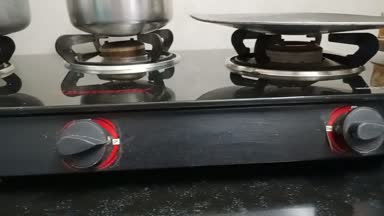flame_gas_off: (231, 27, 384, 159), (55, 22, 173, 171)
